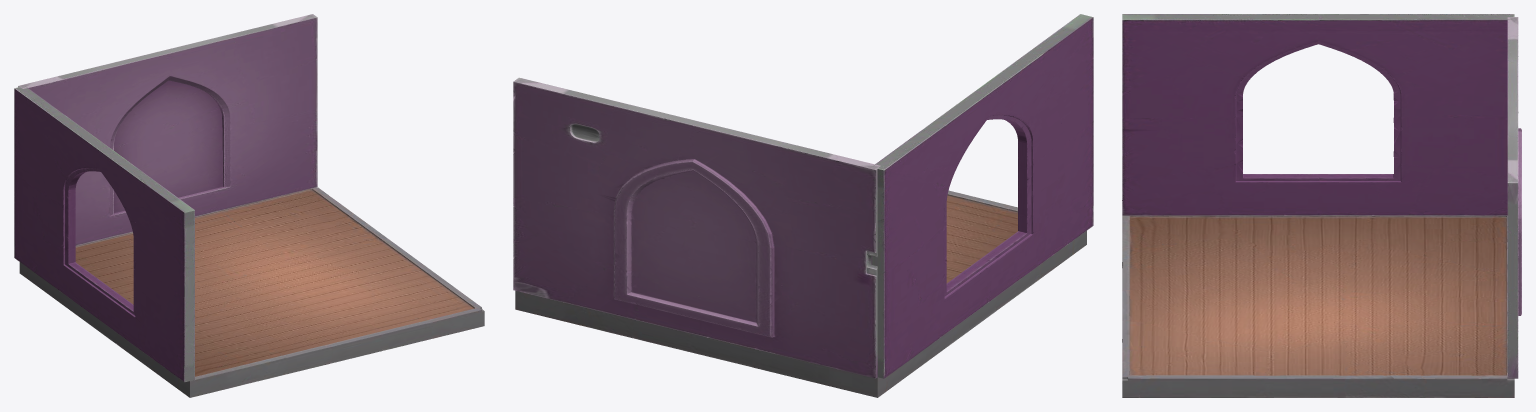
Rendered from violet-dusk-room.glb.
3 renders of one model, left to right at view 1: azimuth 30°, elevation 25°; view 2: azimuth 150°, elevation 25°; view 3: azimuth 270°, elevation 25°, orthographic. The views are drawn at different scales.
Visible parts, largest first — view 1: floor_00, back_mihrab_wall_00, left_window_wall_00; view 2: back_mihrab_wall_00, left_window_wall_00, floor_00; view 3: floor_00, left_window_wall_00, back_mihrab_wall_00.
Boxes of the visible parts, x1=… form: floor_00: x1=19, y1=187, x2=484, y2=397; back_mihrab_wall_00: x1=18, y1=14, x2=317, y2=245; left_window_wall_00: x1=14, y1=86, x2=194, y2=382; back_mihrab_wall_00: x1=513, y1=77, x2=880, y2=378; left_window_wall_00: x1=871, y1=14, x2=1093, y2=378; floor_00: x1=515, y1=190, x2=1086, y2=397; floor_00: x1=1122, y1=215, x2=1514, y2=397; left_window_wall_00: x1=1122, y1=14, x2=1514, y2=215; back_mihrab_wall_00: x1=1507, y1=17, x2=1521, y2=378.
Bounding box in the file's own units: 4.48 × 2.66 × 4.48.
3 materials, 3 textured.
